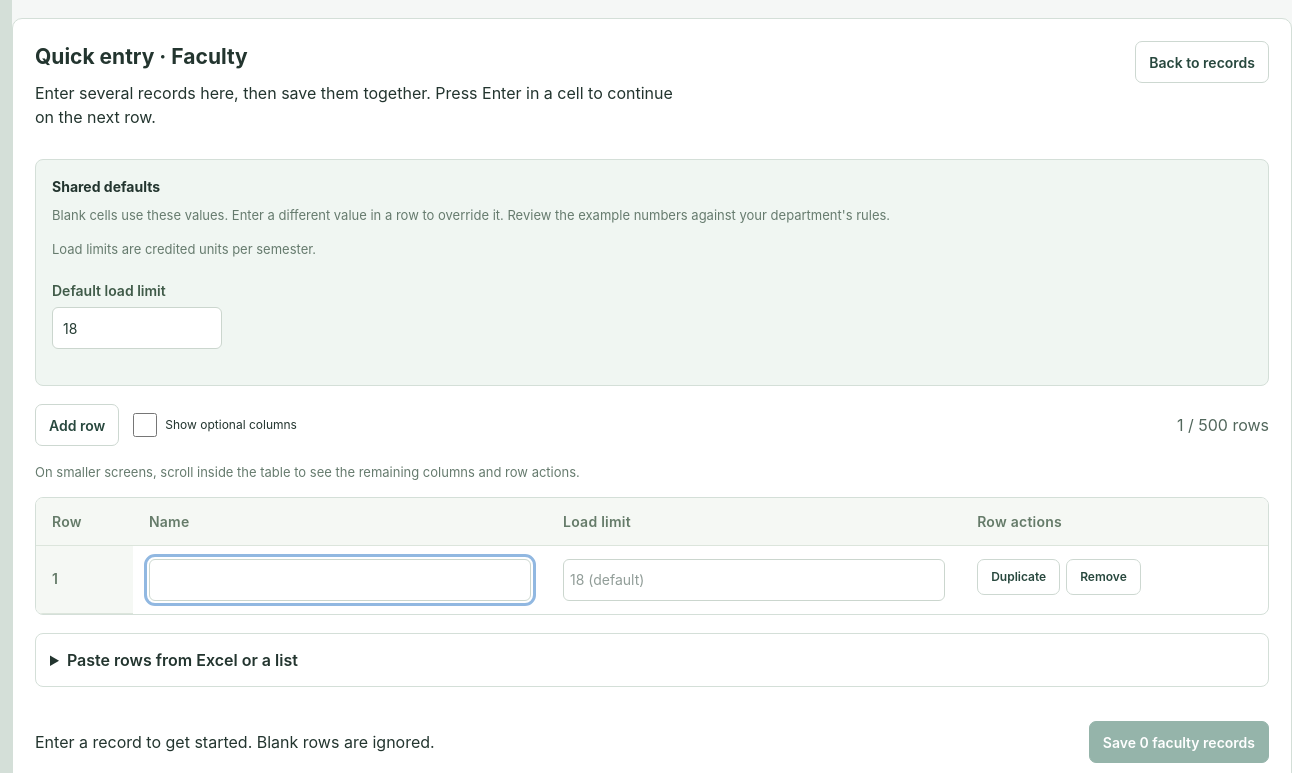
Test: shows paste errors at the paste box without losing entered rows or pasted text
Type "Keep this person" into the field named "Name row 1" at (340,580), box left=149, top=559, right=531, bottom=601
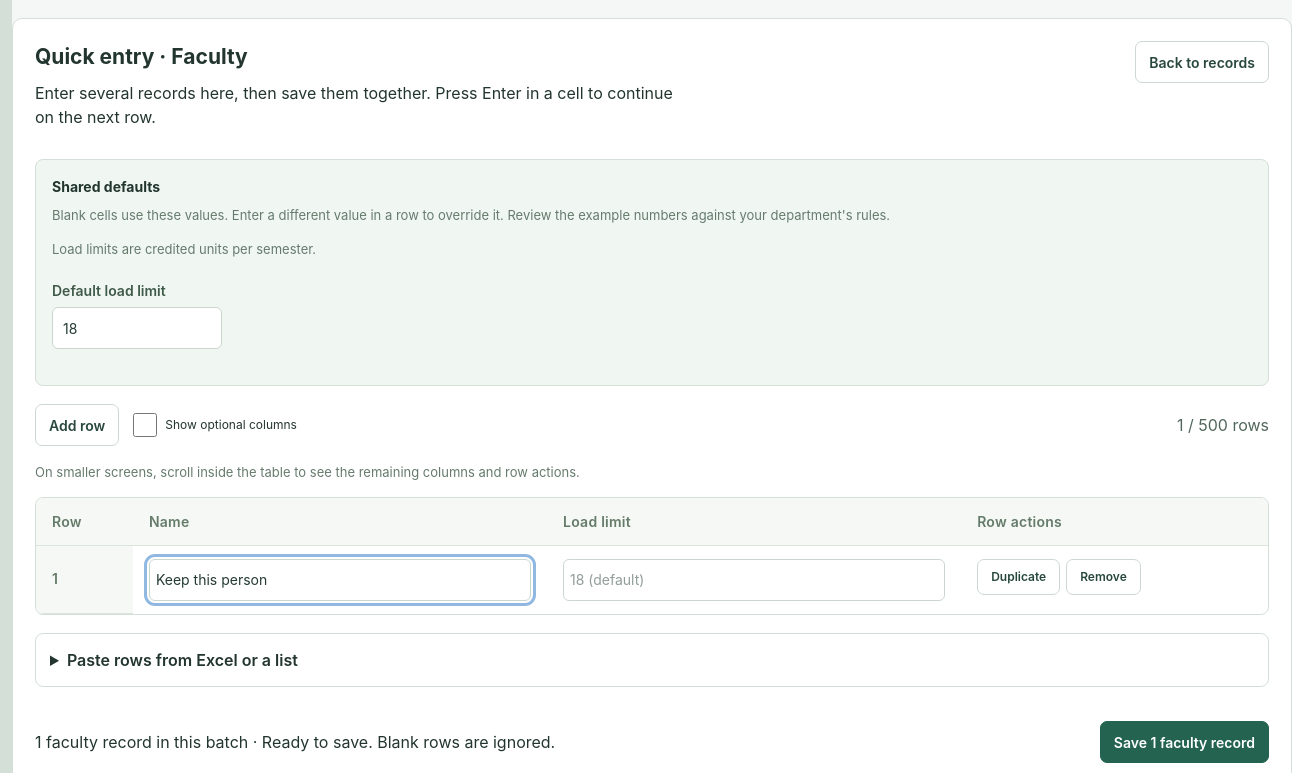
Click the heading "Paste rows from Excel or a list" at (182,660), box left=67, top=650, right=298, bottom=670
(page scrolled)
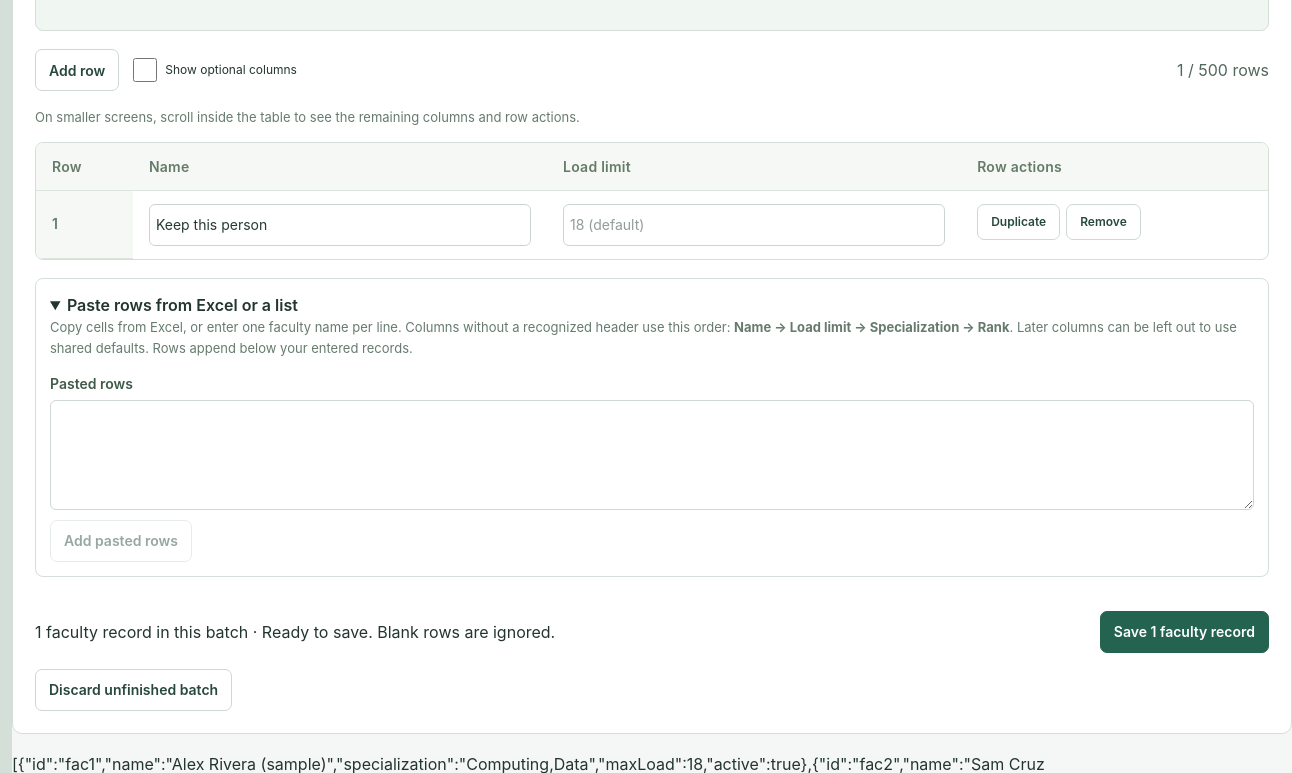
Type "\"Unclosed name" into the text box labelled "Pasted rows" at (652,455), box left=50, top=400, right=1254, bottom=510
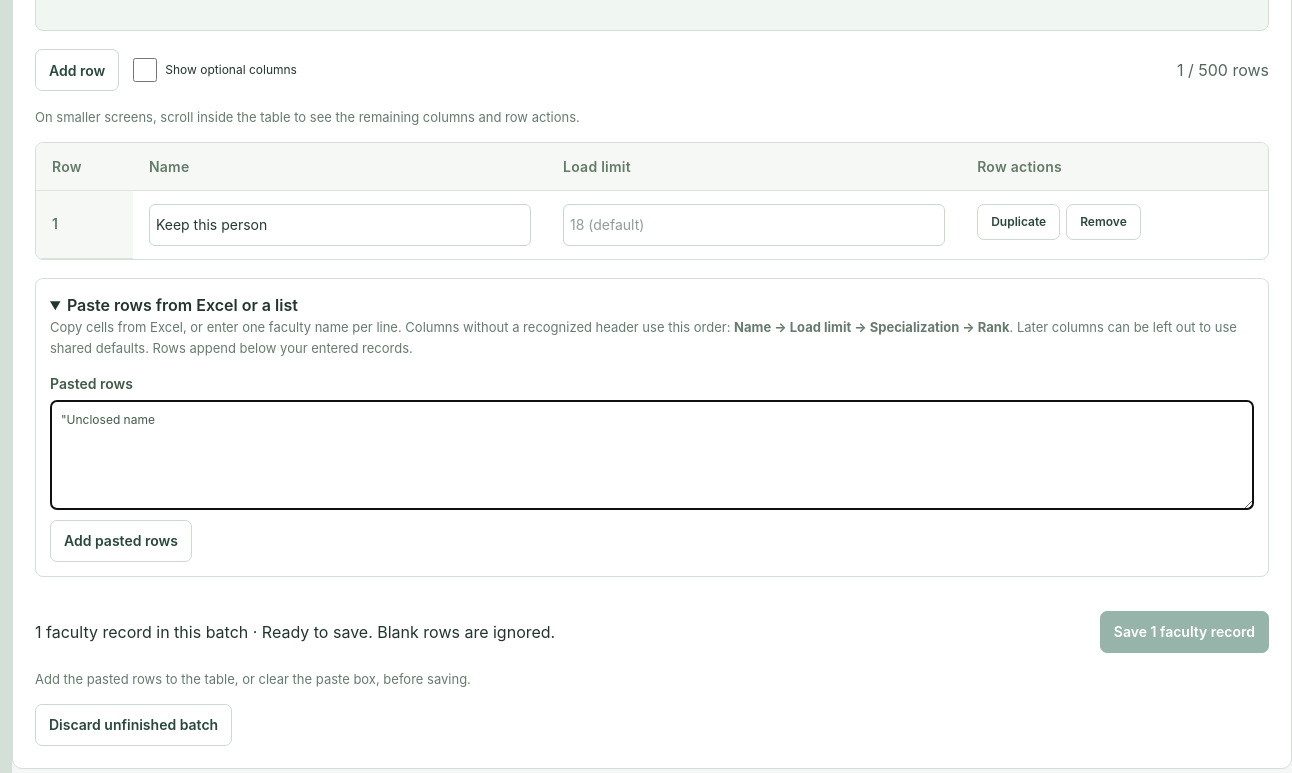
Click the button "Add pasted rows" at (121,541), box left=50, top=520, right=192, bottom=562
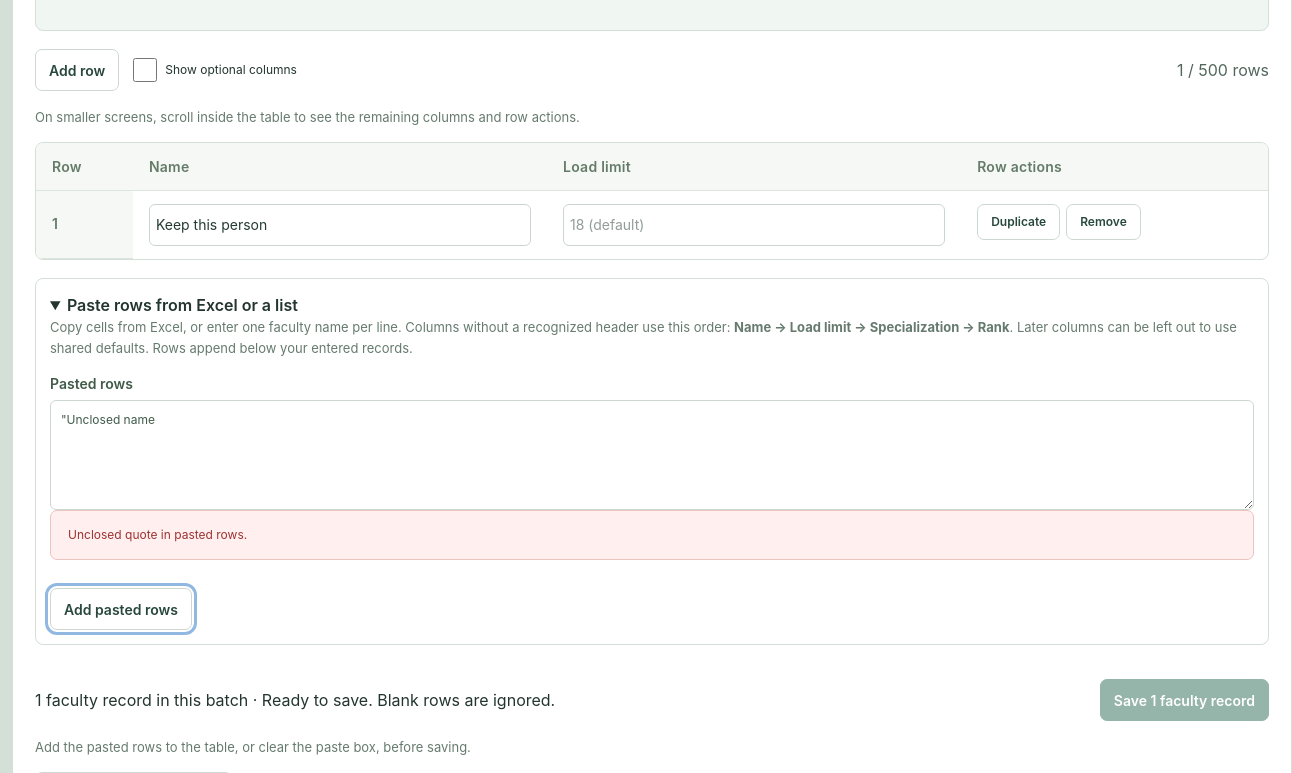
Check: the button "Save 1 faculty record" is disabled, box left=1100, top=679, right=1269, bottom=721
Check: the message "Unclosed quote in pasted rows." is shown, box left=50, top=510, right=1254, bottom=560
